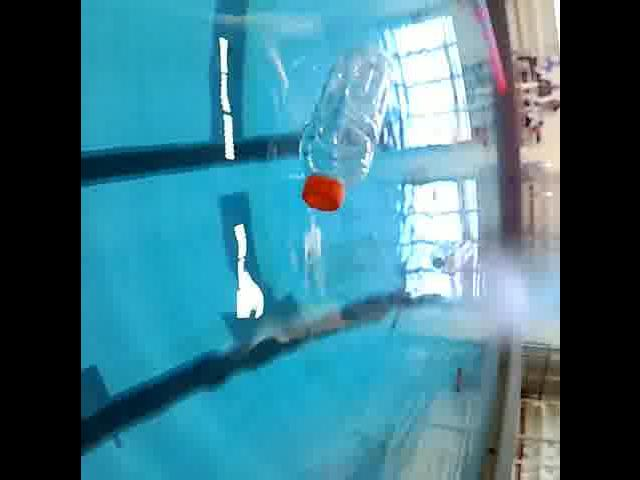Bottle: (290, 41, 398, 220)
